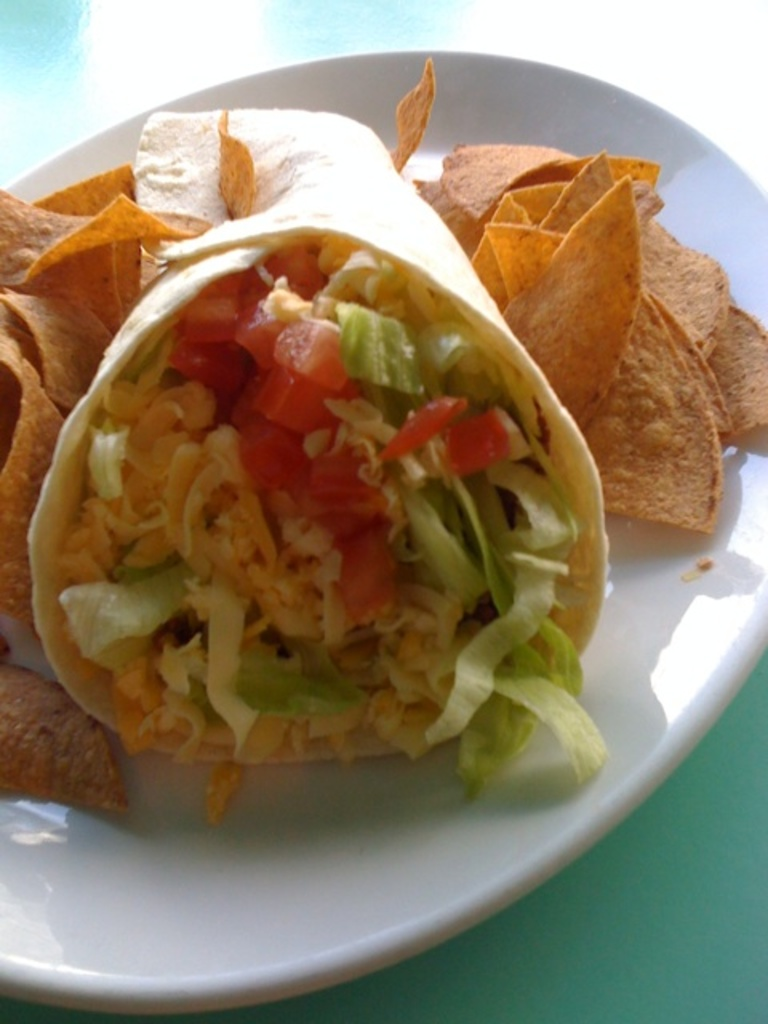taco: (30, 102, 618, 781)
